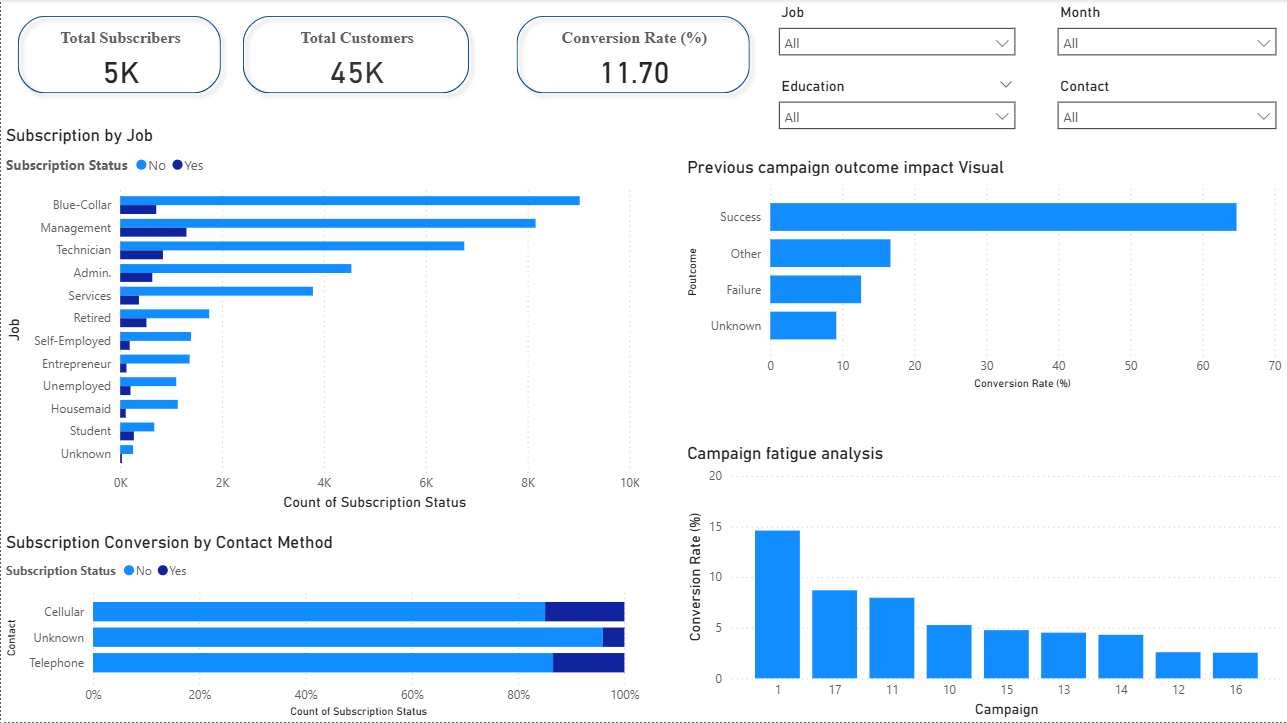

Layout of this report page (visuals, bound fields, positions):
{"tool":"powerbi","page":{"name":"Bank Marketing Campaign Performance Dashboard","canvas":[1280,720],"ordinal":0},"visuals":[{"type":"cardVisual","fields":{"Data":["Bank Marketing.Total Customers"]},"box":[223.6,0,259.7,111.1],"z":0},{"type":"cardVisual","fields":{"Data":["Bank Marketing.Conversion Rate (%)"]},"box":[496.3,0,266.9,111.1],"z":1000},{"type":"cardVisual","fields":{"Data":["Bank Marketing.Total Subscribers"]},"box":[0,0,236.6,111.1],"z":2000},{"type":"clusteredBarChart","title":"Subscription by Job","fields":{"Category":["Bank Marketing.Job"],"Series":["Bank Marketing.Subscription Status"],"Y":["CountNonNull(Bank Marketing.Subscription Status)"]},"box":[0,125.5,640.6,388.1],"z":3000},{"type":"hundredPercentStackedBarChart","title":"Subscription Conversion by Contact Method","fields":{"Category":["Bank Marketing.Contact"],"Y":["CountNonNull(Bank Marketing.Subscription Status)"],"Series":["Bank Marketing.Subscription Status"]},"box":[0,529.5,640.6,190.4],"z":4000},{"type":"clusteredColumnChart","title":"Campaign fatigue analysis","fields":{"Category":["Bank Marketing.Campaign"],"Y":["Bank Marketing.Conversion Rate (%)"]},"box":[678.1,441.5,601.6,278.5],"z":5000},{"type":"clusteredBarChart","title":"Previous campaign outcome impact Visual","fields":{"Category":["Bank Marketing.Poutcome"],"Y":["Bank Marketing.Conversion Rate (%)"]},"box":[678.1,157.3,601.6,236.6],"z":6000},{"type":"slicer","fields":{"Values":["Bank Marketing.Month"]},"box":[1041.7,0,238.1,73.6],"z":7000},{"type":"slicer","fields":{"Values":["Bank Marketing.Contact"]},"box":[1041.7,73.6,238.1,79.4],"z":8000},{"type":"slicer","fields":{"Values":["Bank Marketing.Education"]},"box":[763.2,73.6,255.4,69.3],"z":9000},{"type":"slicer","fields":{"Values":["Bank Marketing.Job"]},"box":[763.2,0,255.4,73.6],"z":10000}]}

Visuals, with their boxes in screenshot pixels (x1, y1, x2, y2), scaled from the page's 1280x720 canvas onto the 1287x723 screenshot:
cardVisual - Bank Marketing.Total Customers: 225,0,486,112
cardVisual - Bank Marketing.Conversion Rate (%): 499,0,767,112
cardVisual - Bank Marketing.Total Subscribers: 0,0,238,112
"Subscription by Job" clusteredBarChart: 0,126,644,516
"Subscription Conversion by Contact Method" hundredPercentStackedBarChart: 0,532,644,722
"Campaign fatigue analysis" clusteredColumnChart: 682,443,1286,722
"Previous campaign outcome impact Visual" clusteredBarChart: 682,158,1286,396
slicer - Bank Marketing.Month: 1047,0,1286,74
slicer - Bank Marketing.Contact: 1047,74,1286,154
slicer - Bank Marketing.Education: 767,74,1024,143
slicer - Bank Marketing.Job: 767,0,1024,74
